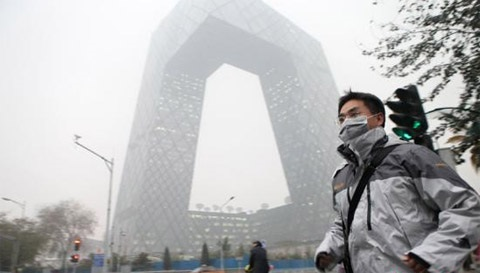face_mask: (339, 101, 370, 142)
